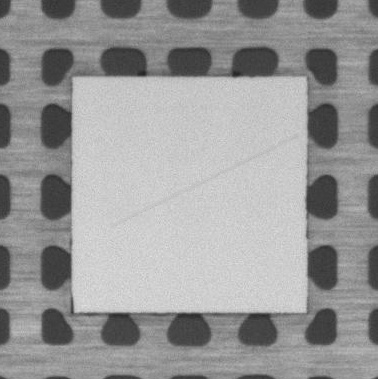DIE_CRACK: (112, 136, 296, 227)
